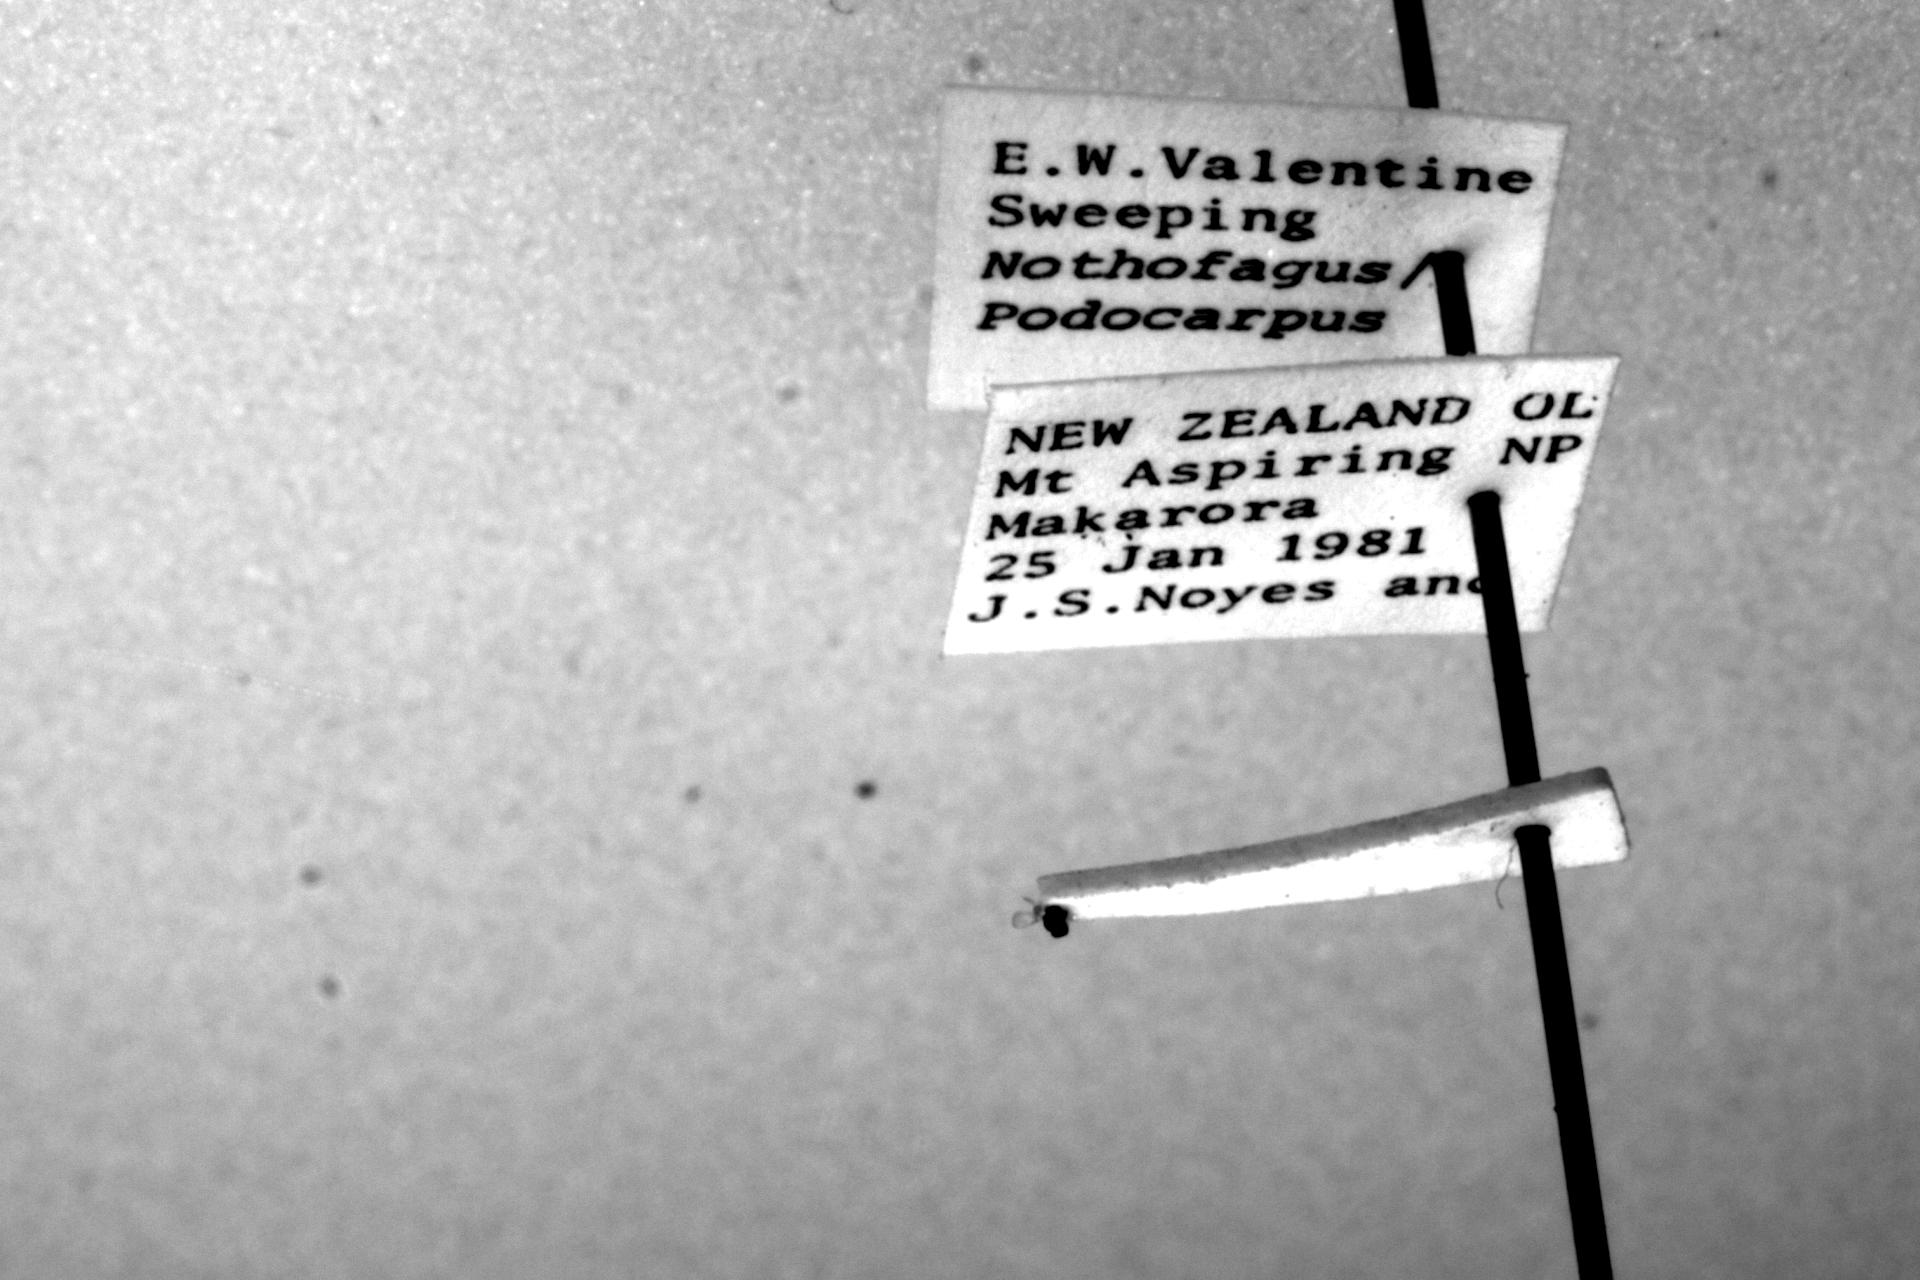typed_label: (926, 86, 1567, 409), (946, 356, 1616, 653)
